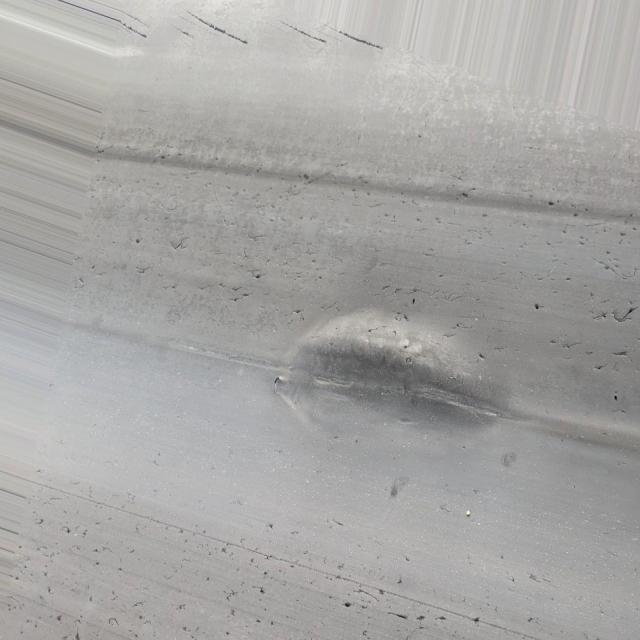Impact Damage: (270, 295, 511, 462)
Puncture: (616, 301, 638, 321), (473, 348, 488, 364), (590, 361, 608, 374), (456, 189, 472, 203), (390, 611, 408, 623), (530, 300, 546, 313), (610, 350, 630, 360), (594, 308, 609, 321), (340, 600, 356, 612), (544, 196, 556, 211), (610, 390, 621, 406), (60, 526, 73, 538), (434, 612, 448, 623), (408, 296, 420, 308), (54, 612, 66, 624), (255, 585, 268, 596), (230, 294, 242, 304), (158, 154, 170, 164), (265, 522, 276, 532), (548, 338, 559, 348), (134, 236, 144, 245), (73, 631, 83, 640), (524, 615, 534, 624), (377, 588, 388, 596), (252, 273, 263, 281), (263, 552, 272, 561), (472, 616, 482, 624), (292, 306, 302, 314), (414, 132, 424, 140), (396, 576, 404, 586), (416, 614, 426, 621), (413, 215, 423, 222), (316, 274, 324, 282), (402, 556, 410, 564), (563, 276, 573, 282), (255, 618, 263, 625), (93, 560, 102, 566), (270, 620, 277, 626), (572, 212, 578, 218)
